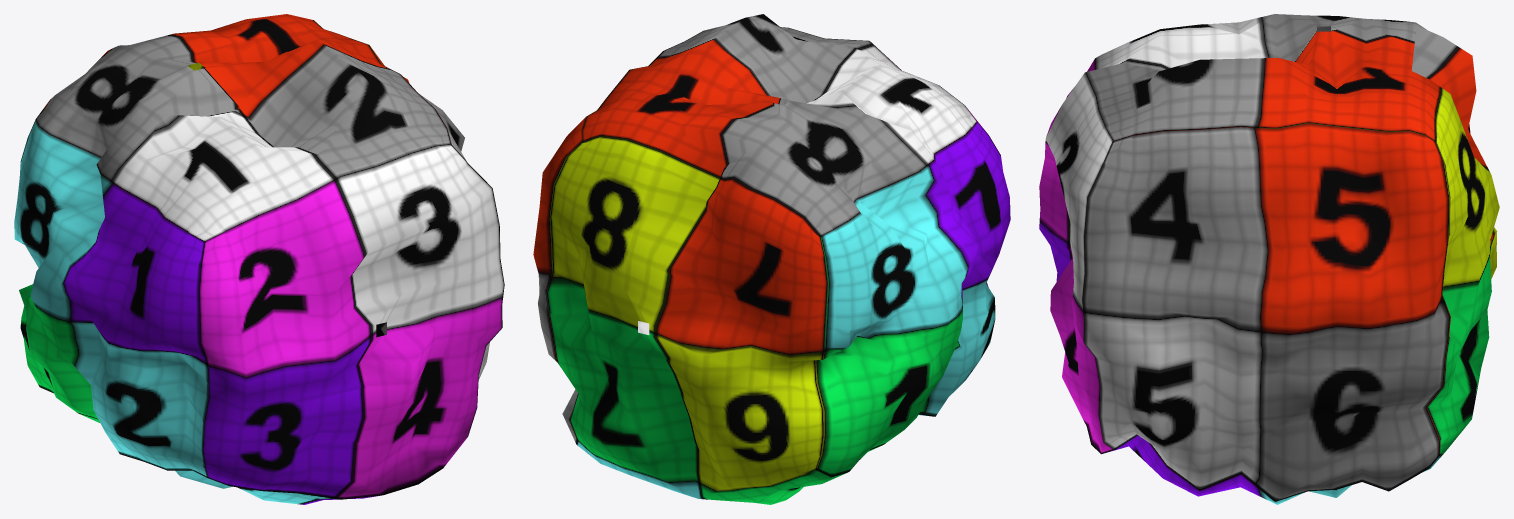
Rendered from Generic Medium Cavern.fbx.
3 views of the same model, side by side, from view 1: azimuth 30°, elevation 25°; view 2: azimuth 150°, elevation 25°; view 3: azimuth 270°, elevation 25° (orthographic). The views are drawn at different scales.
Parts seen in each view (by area): view 1: pCube9; view 2: pCube9; view 3: pCube9.
Boxes of the visible parts, x1,y1,x2,y2 form: pCube9: (14,14,504,504); pCube9: (533,14,1010,504); pCube9: (1039,14,1499,504).
Bounding box in the file's own units: 594 × 614 × 575.
Materials: 1 (1 with a texture image).
